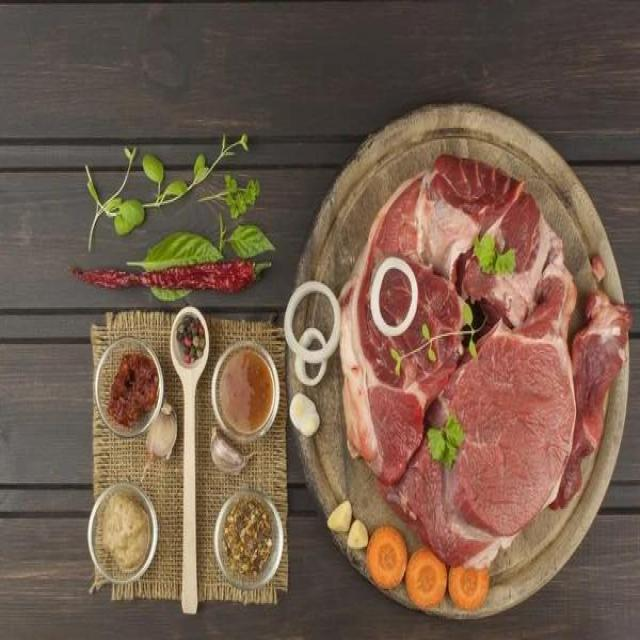Beef: (341, 158, 594, 560)
